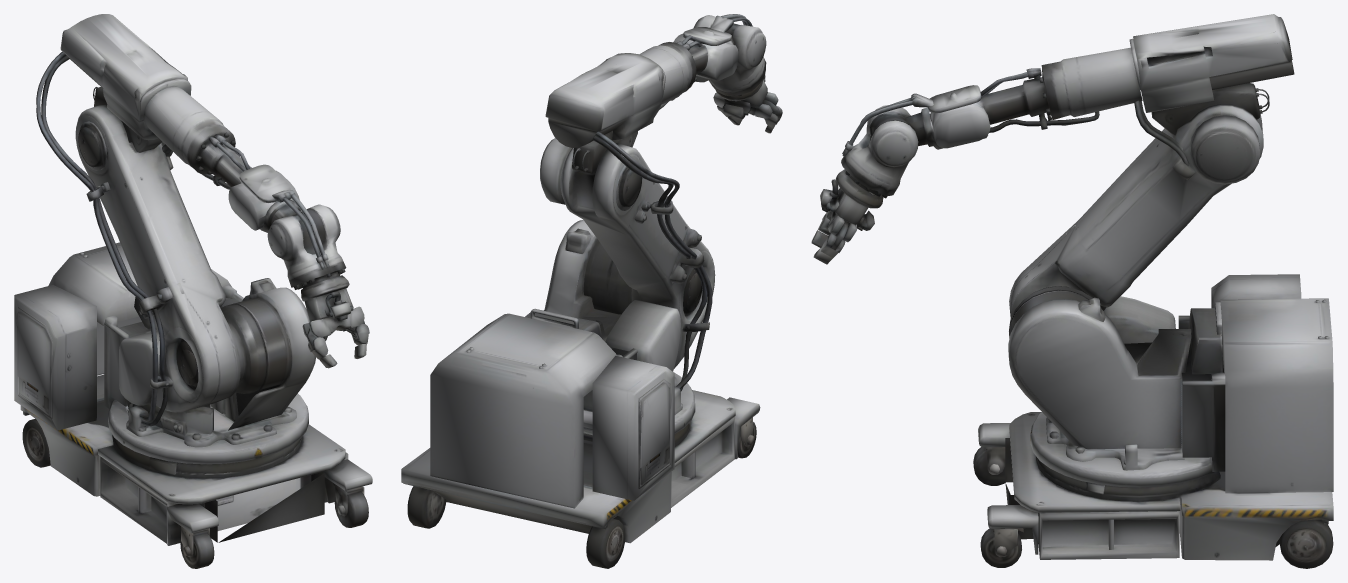
Rendered from industrial robot arm 3d model v02.fbx.
The picture shows the model from 3 angles, left to right: view 1: azimuth 30°, elevation 25°; view 2: azimuth 150°, elevation 25°; view 3: azimuth 270°, elevation 25°; orthographic projection. The views are drawn at different scales.
Visible parts, largest first — view 1: Base, brazo_1, Brazo_2, Base_Pinza, base_pinza2, Cable_5, Cable_8, Mano_1, Cable_3, base_brazo; view 2: Base, brazo_1, Brazo_2, Base_Pinza, base_pinza2, Cable_5, Cable_8, base_brazo, Mano_1; view 3: Base, brazo_1, Brazo_2, Base_Pinza, base_pinza2, base_brazo, Cable.
Boxes of the visible parts, x1,y1,x2,y2 form: Base: [14, 242, 372, 568]; brazo_1: [75, 105, 240, 412]; Brazo_2: [60, 14, 251, 186]; Base_Pinza: [267, 204, 353, 321]; base_pinza2: [228, 164, 300, 232]; Cable_5: [36, 52, 157, 421]; Cable_8: [41, 55, 167, 426]; Mano_1: [302, 306, 364, 337]; Cable_3: [282, 194, 325, 257]; base_brazo: [93, 87, 162, 152]; Base: [401, 220, 760, 568]; brazo_1: [540, 138, 715, 371]; Brazo_2: [545, 41, 707, 147]; Base_Pinza: [693, 15, 767, 118]; base_pinza2: [673, 15, 738, 82]; Cable_5: [595, 131, 712, 389]; Cable_8: [592, 136, 707, 391]; base_brazo: [572, 130, 637, 173]; Mano_1: [713, 92, 778, 118]; Base: [973, 274, 1333, 568]; brazo_1: [1009, 104, 1263, 343]; Brazo_2: [976, 14, 1294, 129]; Base_Pinza: [820, 105, 918, 230]; base_pinza2: [905, 85, 990, 149]; base_brazo: [1151, 83, 1269, 135]; Cable: [1134, 100, 1189, 166].
Bounding box in the file's own units: 0.5054 × 0.9995 × 0.9907.
